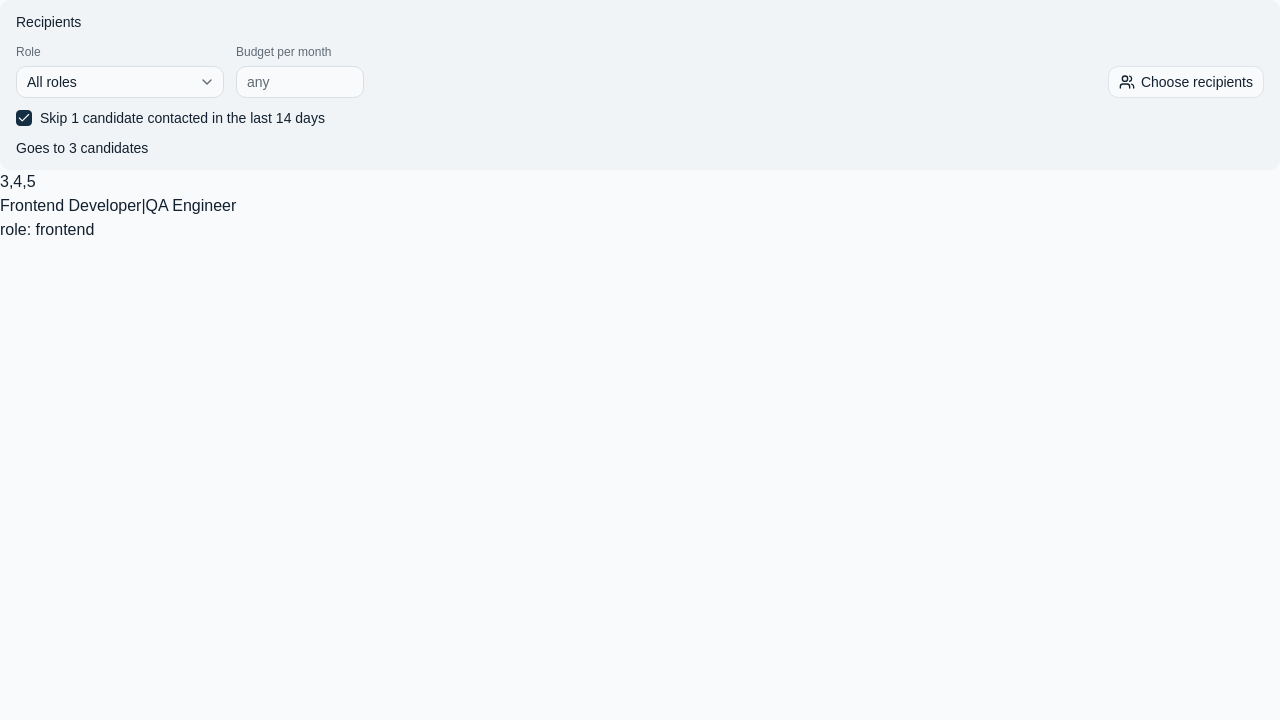
Test: RecipientsPicker › lets the recruiter fine-tune the list by hand
Click the button "Choose recipients" at (1186, 82), box [1108, 66, 1264, 98]
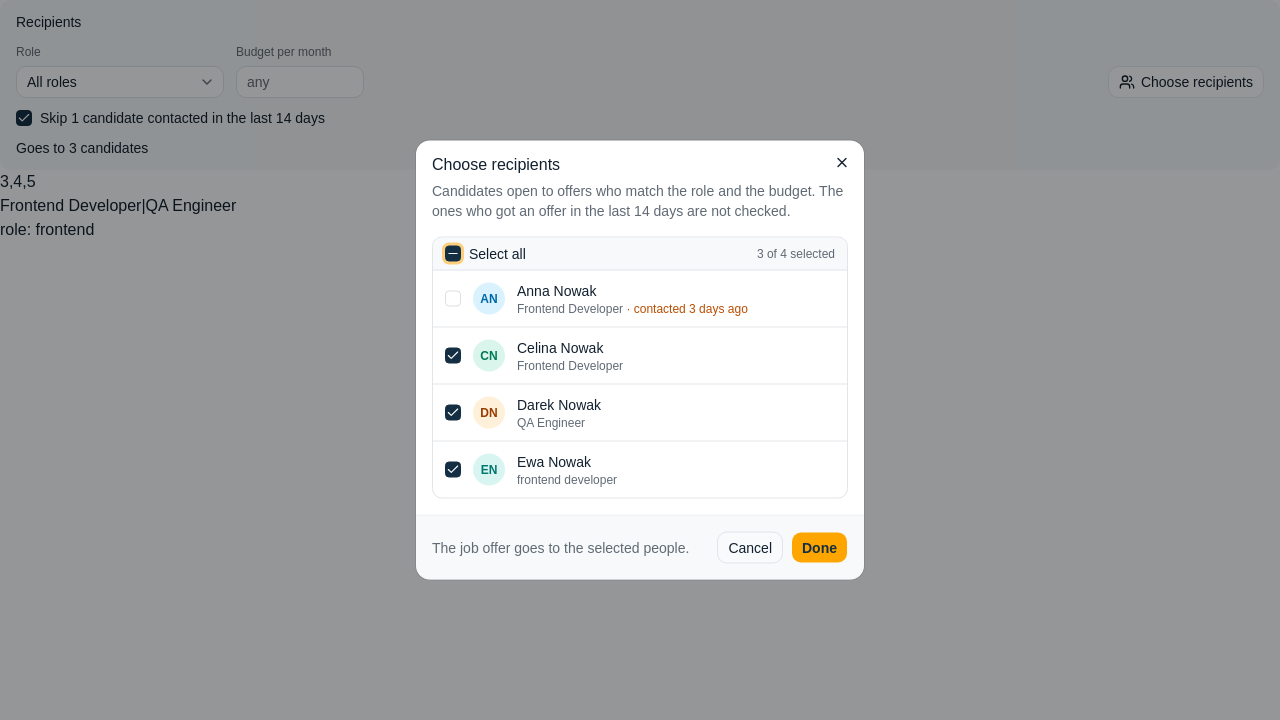
Result: the text "3 of 4 selected" is shown at [757, 246, 835, 262]
Result: the checkbox named "Anna" in the row of "Anna" is not checked at [445, 290, 461, 306]
Result: the text "· contacted 3 days ago" is shown at [623, 302, 748, 316]
Click the 4th checkbox named "Darek" at (453, 412), box [445, 404, 461, 420]
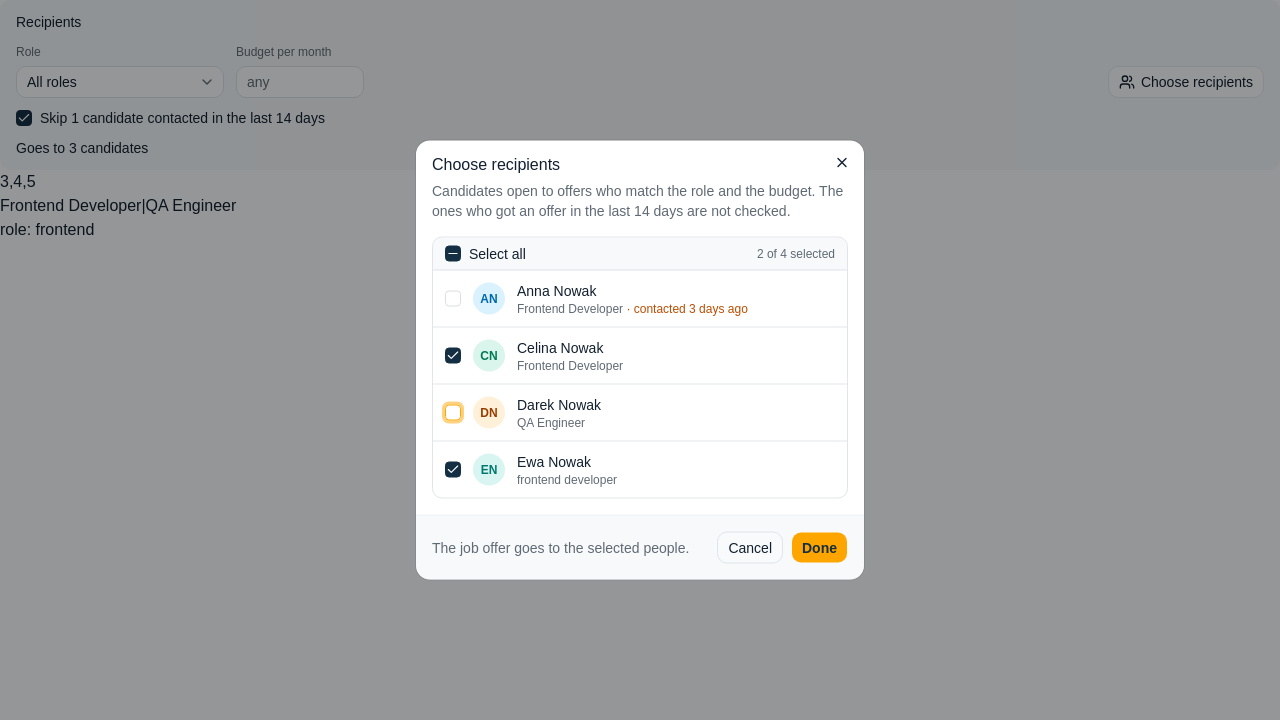
Click the button "Done" at (820, 548), box [791, 532, 848, 564]
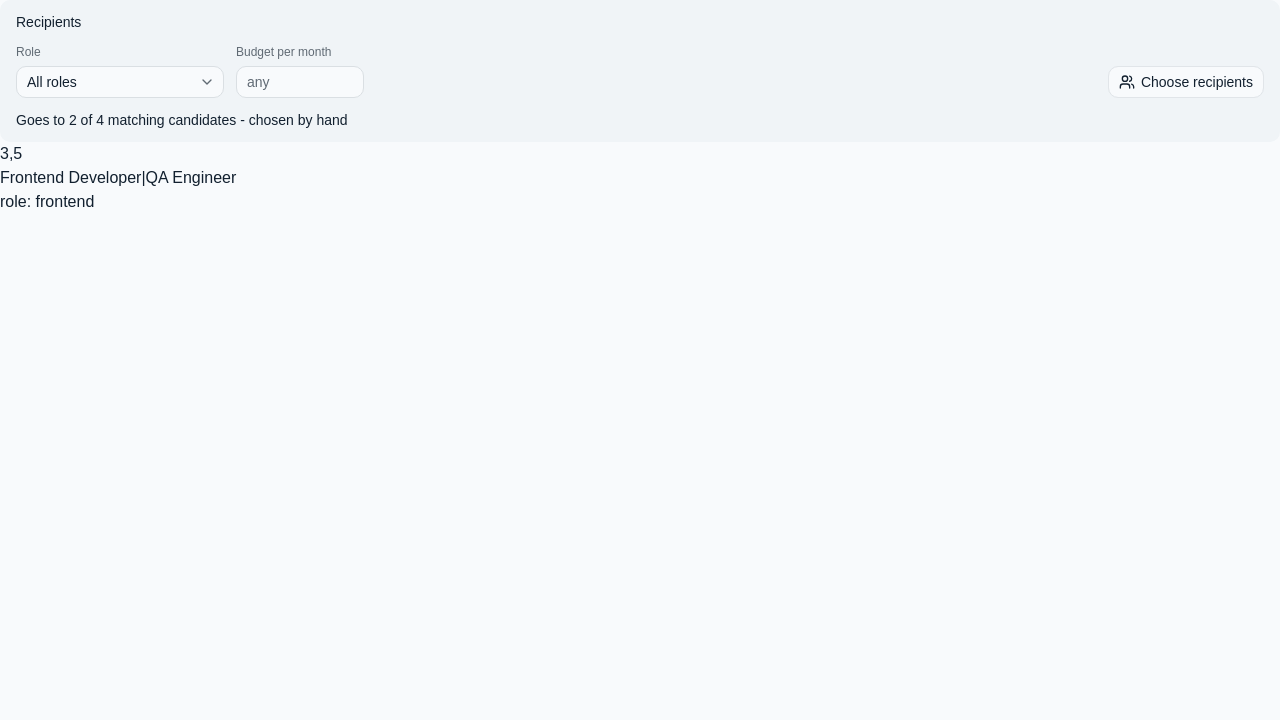
Result: the text "Goes to 2 of 4 matching candidates - chosen by hand" is shown at [16, 112, 348, 128]
Result: the label labelled "Skip" is gone
